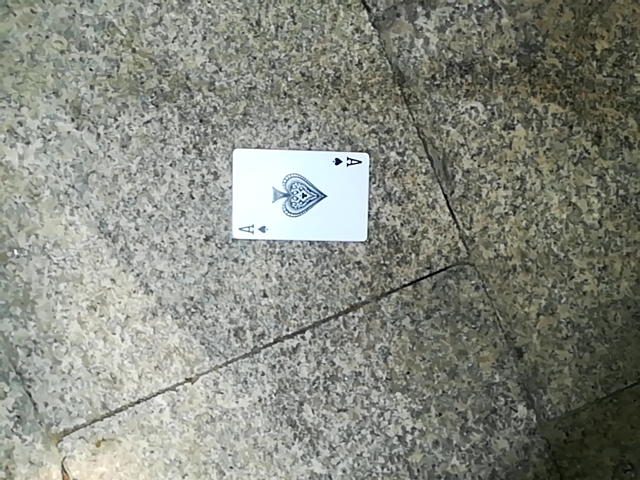ht a: (239, 158, 386, 256)
